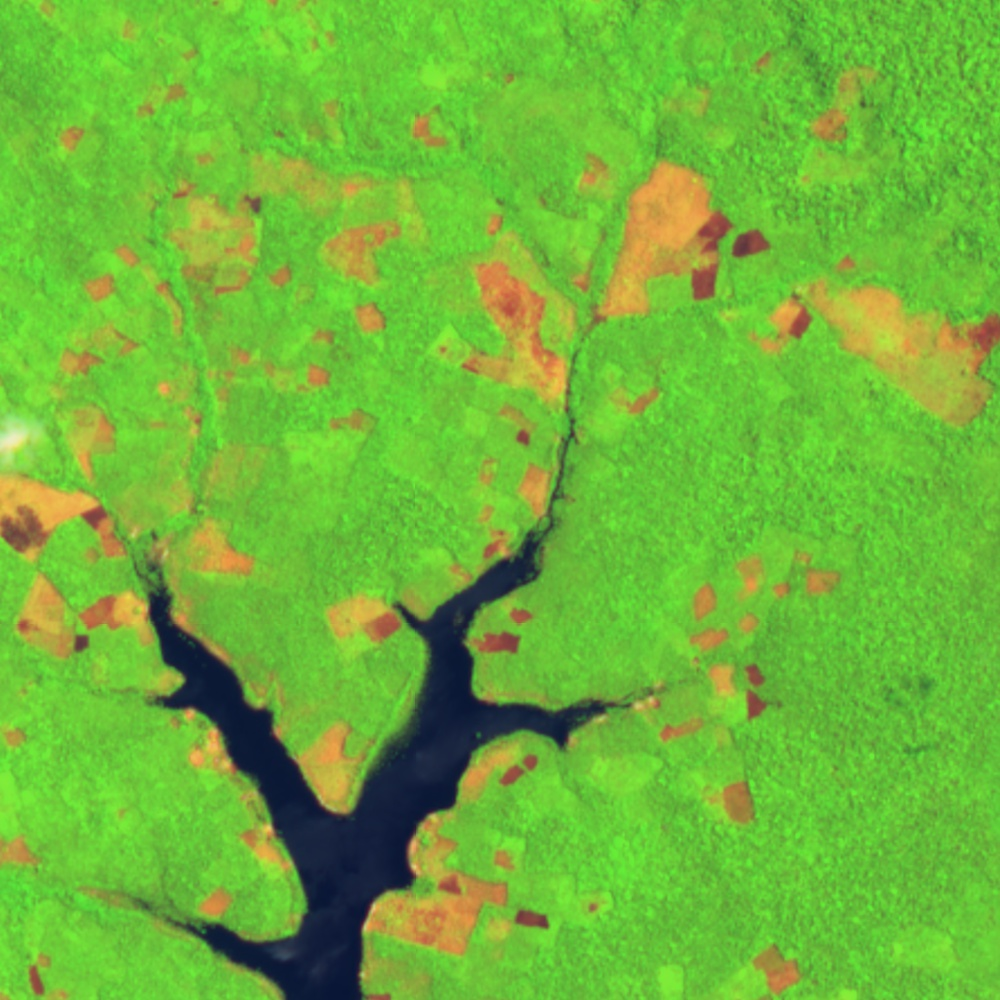legal: (361, 736, 554, 956), (757, 253, 1000, 426), (587, 159, 771, 327), (681, 536, 844, 721), (246, 155, 436, 291), (437, 246, 570, 409), (175, 710, 294, 876), (449, 454, 575, 588), (156, 180, 298, 296), (9, 570, 157, 659), (793, 58, 884, 188), (1, 469, 126, 563), (78, 243, 191, 337), (207, 326, 335, 405), (292, 712, 385, 820), (565, 675, 670, 749), (148, 518, 257, 580), (49, 385, 119, 480), (154, 378, 203, 513), (318, 590, 434, 646), (166, 576, 234, 662), (18, 671, 185, 706), (128, 42, 203, 118), (47, 323, 141, 383), (719, 943, 805, 1000), (273, 95, 347, 151), (79, 883, 177, 925), (466, 605, 537, 661), (260, 1, 341, 49), (699, 771, 758, 826), (468, 684, 566, 710), (407, 103, 454, 154), (193, 884, 244, 930), (496, 399, 543, 447), (607, 382, 665, 419), (25, 949, 66, 1000), (325, 403, 381, 438), (569, 891, 612, 929), (1, 834, 45, 868), (352, 299, 387, 337), (657, 714, 707, 740), (359, 965, 396, 1000), (655, 963, 687, 1000), (56, 118, 88, 154), (748, 39, 780, 70), (116, 13, 140, 45), (1, 725, 29, 749), (487, 210, 509, 238), (498, 64, 523, 86), (39, 1, 60, 20)
